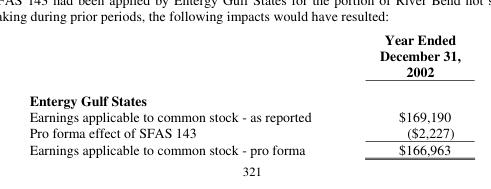table: (28, 29, 459, 157)
table column: (28, 29, 344, 157), (344, 29, 459, 157)
table column header: (28, 29, 459, 85)
table projected row header: (28, 85, 459, 108)
table row: (28, 29, 459, 85), (28, 85, 459, 108), (28, 139, 459, 157), (28, 123, 459, 139), (28, 108, 459, 123)
